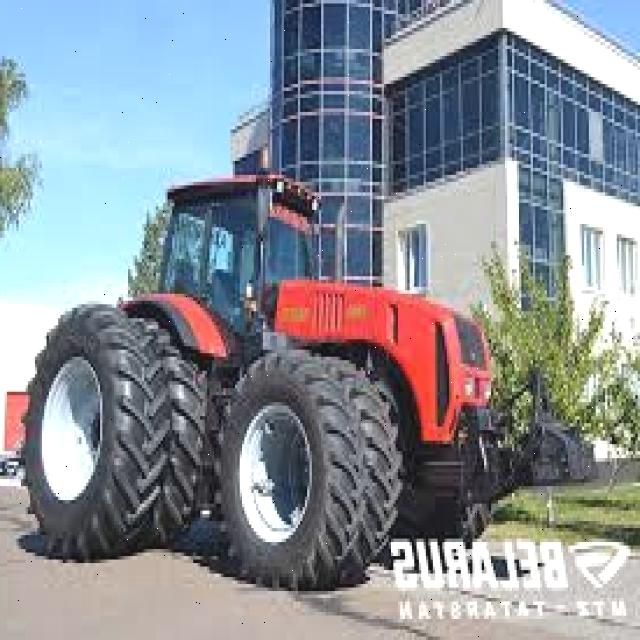Tratores - v5 YOLO V8L 2024-11-13: (39, 162, 512, 580)
